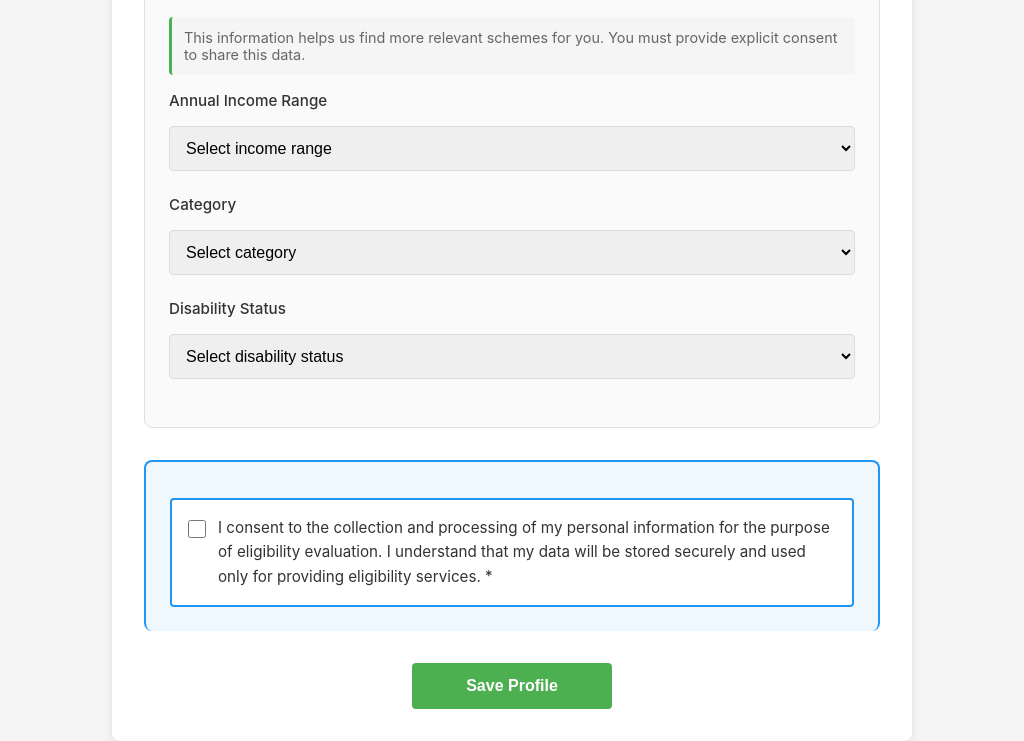
Test case: UserProfileForm › shows validation errors when required fields are missing
(page scrolled)
Click the button "Save Profile".
click(512, 686)  # box x1=412 y1=663 x2=612 y2=709
(page scrolled)
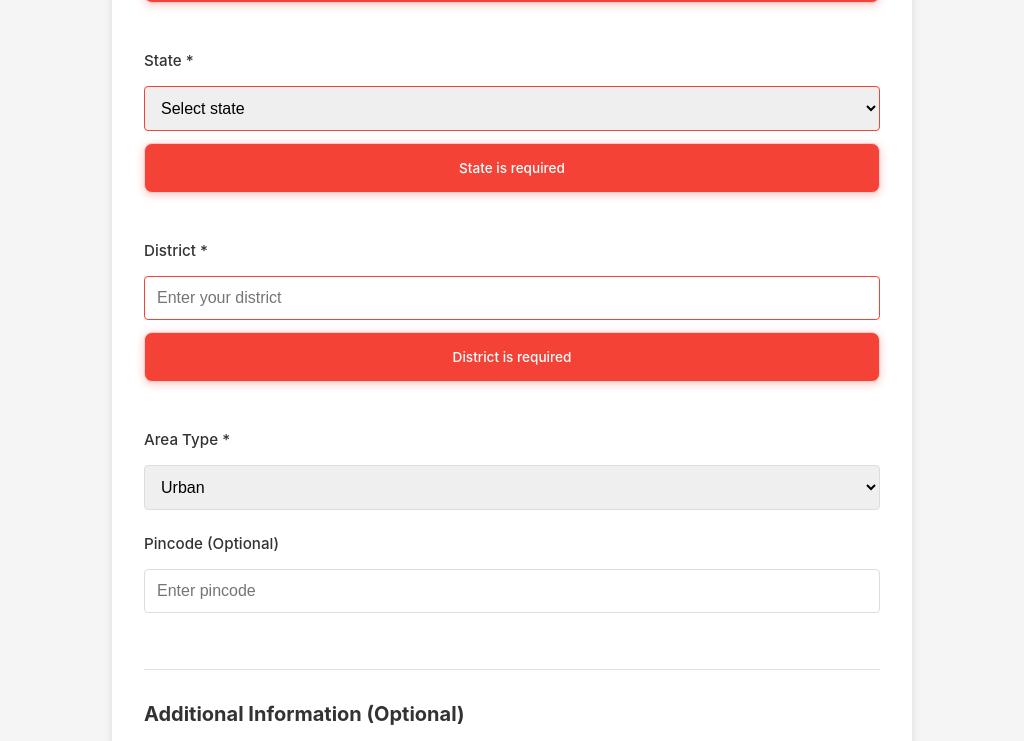
Result: the text "State is required" is shown at x1=144 y1=143 x2=880 y2=193
Result: the text "District is required" is shown at x1=144 y1=332 x2=880 y2=382
